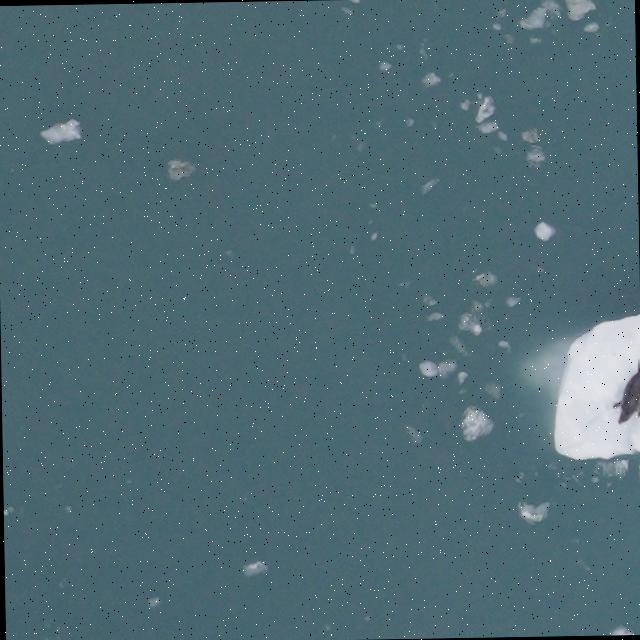seal: (608, 358, 640, 428)
